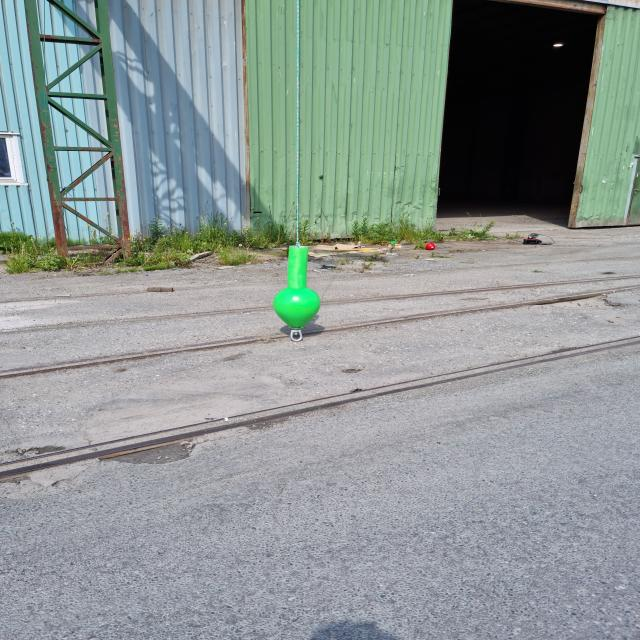green: (272, 245, 322, 329)
